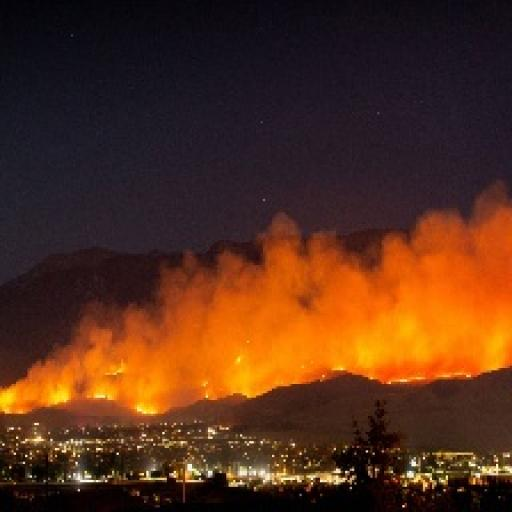fire and smoke: (0, 186, 511, 411)
